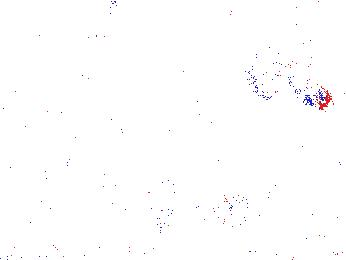flame jellyfish: (243, 46, 331, 111), (211, 165, 285, 219), (119, 170, 177, 226)
